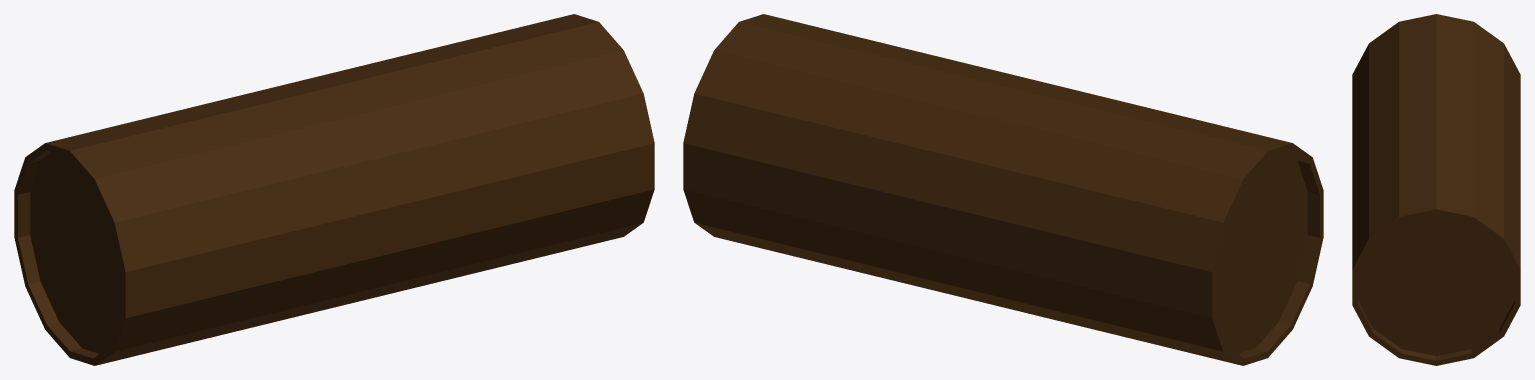
The model's file is Log.FBX.
The picture shows the model from 3 angles, left to right: view 1: azimuth 30°, elevation 25°; view 2: azimuth 150°, elevation 25°; view 3: azimuth 270°, elevation 25°; orthographic projection. The views are drawn at different scales.
Parts seen in each view (by area): view 1: Cylinder001; view 2: Cylinder001; view 3: Cylinder001.
Boxes of the visible parts, x1,y1,x2,y2 form: Cylinder001: (14, 14, 654, 365); Cylinder001: (683, 14, 1323, 365); Cylinder001: (1352, 14, 1520, 365).
Size of the model in its own units: 107 by 39.84 by 38.84.
